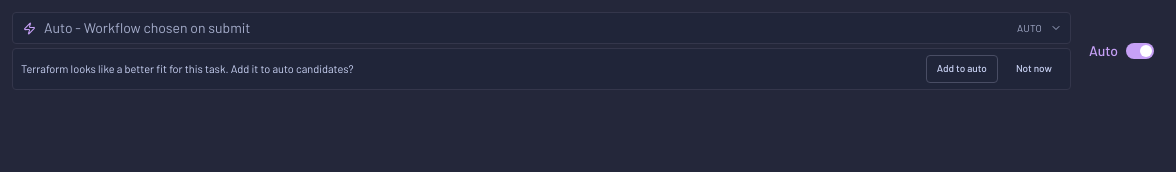
Test: WorkflowSelectionBar library auto suggestion › enables auto for the suggested workflow and dismisses the banner
This screenshot has width=1176, height=172.
Check: the text "Terraform looks like a better fit" is shown, box left=21, top=62, right=354, bottom=75
Click the button "Add to auto".
click(962, 69)  # box left=926, top=55, right=998, bottom=83
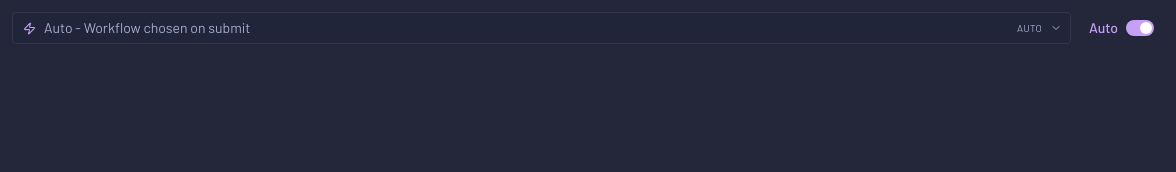
Check: the text "Terraform looks like a better fit" is gone
